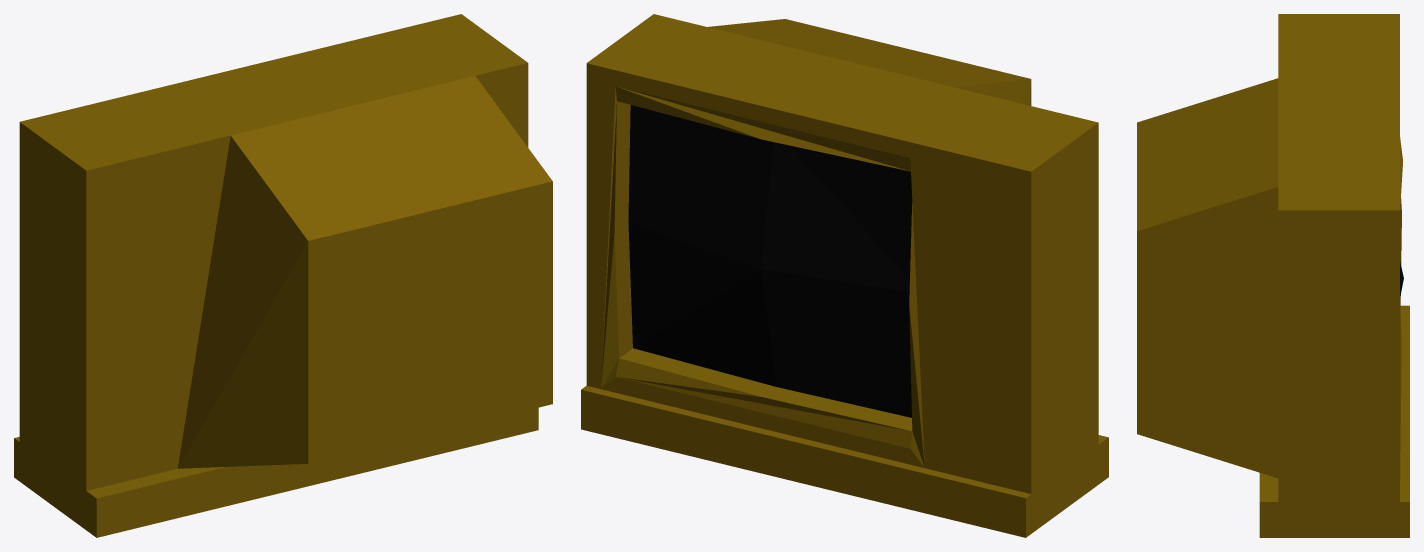
The model's file is crt tv.fbx.
3 renders of one model, left to right at view 1: azimuth 30°, elevation 25°; view 2: azimuth 150°, elevation 25°; view 3: azimuth 270°, elevation 25°, orthographic. The views are drawn at different scales.
Visible parts, largest first — view 1: pCube78; view 2: pCube78; view 3: pCube78.
Part boxes in pixels (<box>): pCube78: <box>14,14,552,537</box>; pCube78: <box>581,14,1108,537</box>; pCube78: <box>1137,14,1409,537</box>.
Bounding box in the file's own units: 65.43 × 50.91 × 38.44.
